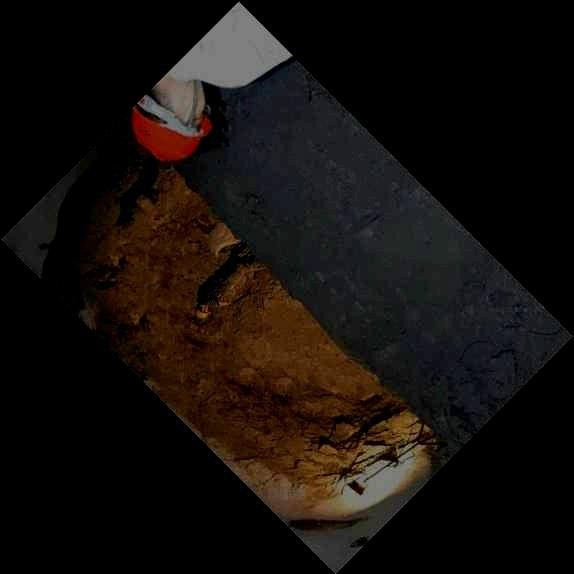helmet: (131, 75, 212, 162), (196, 305, 211, 319)
